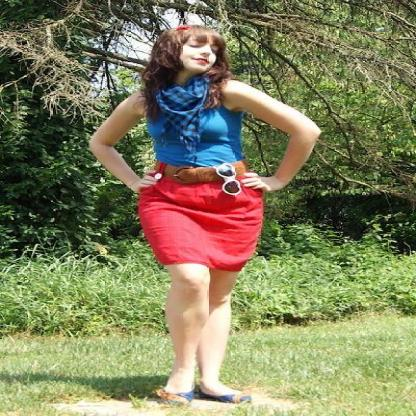shirt: (144, 81, 264, 168)
shoe: (155, 383, 241, 406)
skirt: (137, 174, 265, 270)
